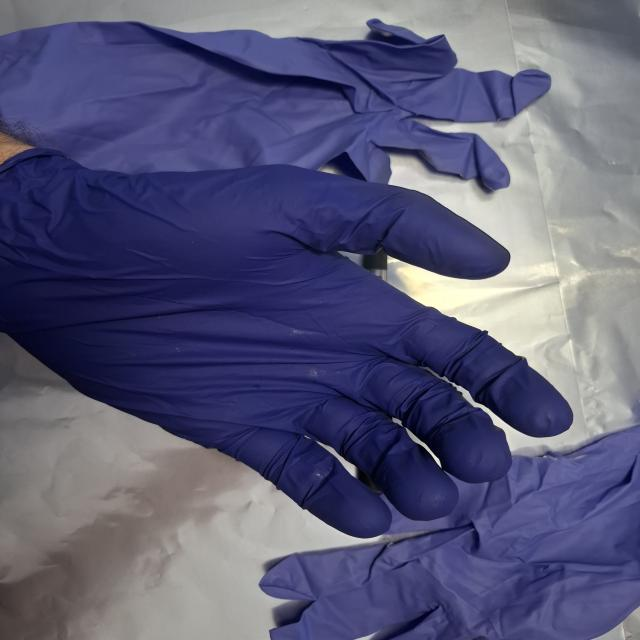glove_on: (0, 148, 578, 542)
